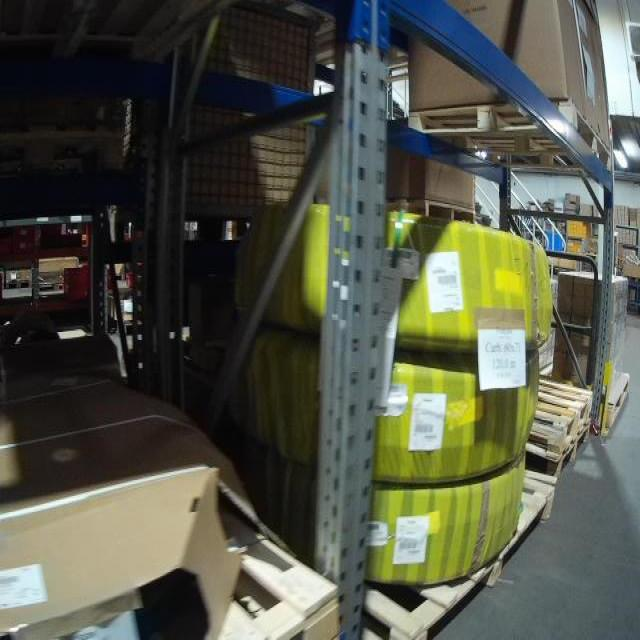pallet: (309, 453, 558, 639), (116, 494, 342, 637), (399, 94, 614, 173), (512, 365, 594, 448), (544, 354, 633, 428), (519, 416, 596, 478), (382, 193, 480, 227)
small_load_carrier: (60, 265, 96, 284), (5, 243, 38, 263), (2, 227, 42, 243), (61, 284, 97, 301)
stillage: (117, 7, 325, 226)
